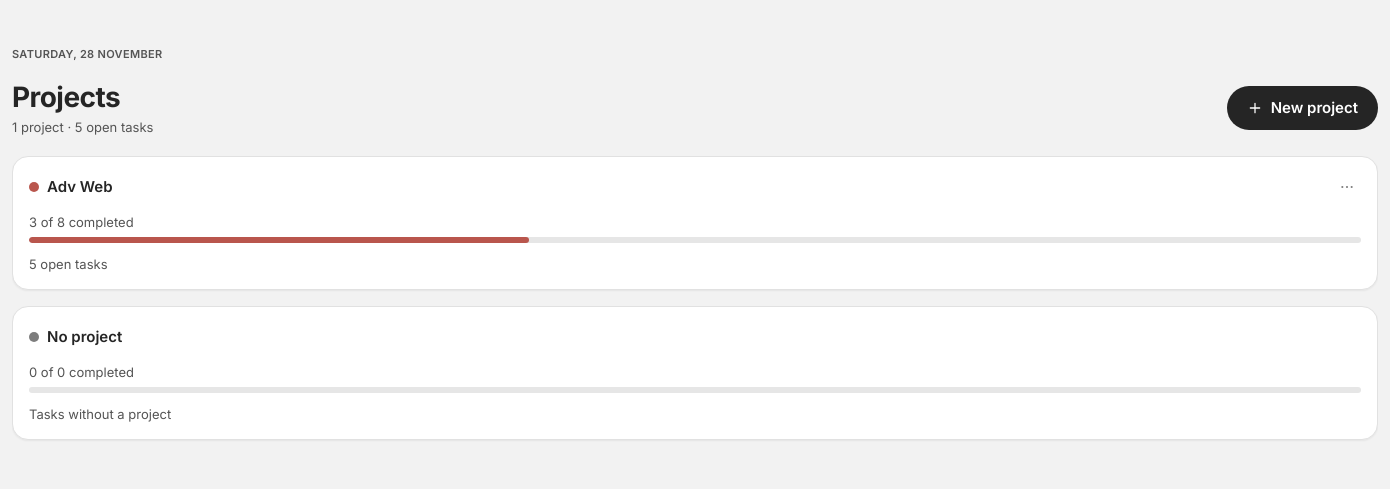
Test case: ProjectsScreen (PJ §2.2) › closes project card menu on click outside and on Escape
The width and height of the screenshot is (1390, 489).
Step 1. Click the button named "Project options" → (1347, 187), box [1333,173,1361,201]
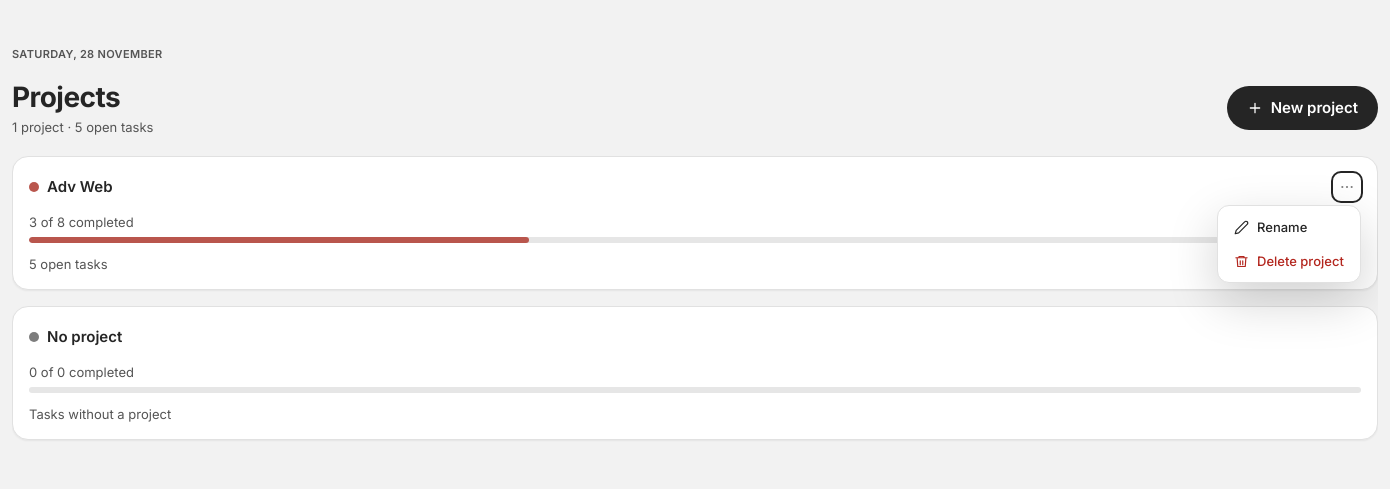
expect the menu is shown: met, box [1217,205,1361,283]
// Click outside on document body closes menu
Step 2. Click the element that starts with "Saturday, 28 November" → (695, 236), box [12,0,1378,472]
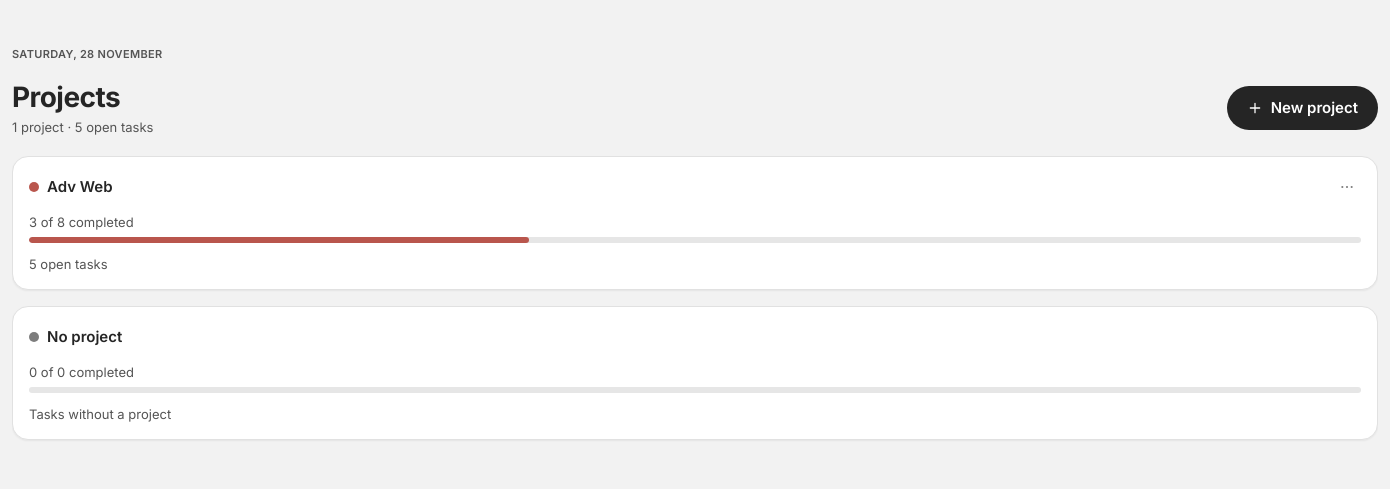
expect the menu is gone: met
// Open again and press Escape to close
Step 3. Click the button named "Project options" → (1347, 187), box [1333,173,1361,201]
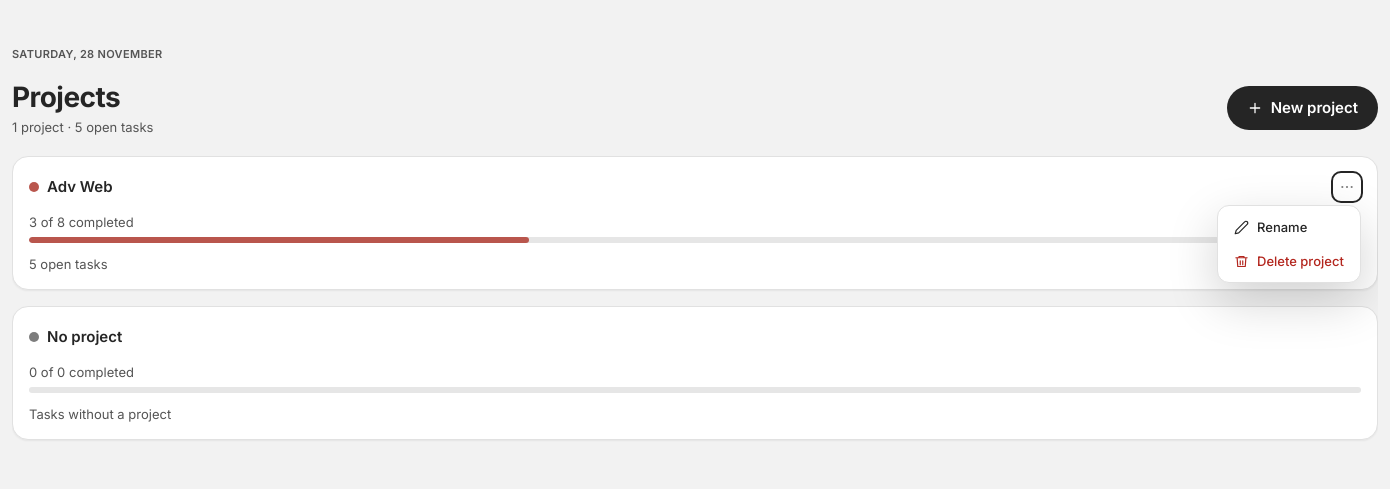
expect the menu is shown: met, box [1217,205,1361,283]
Step 4. Press Escape
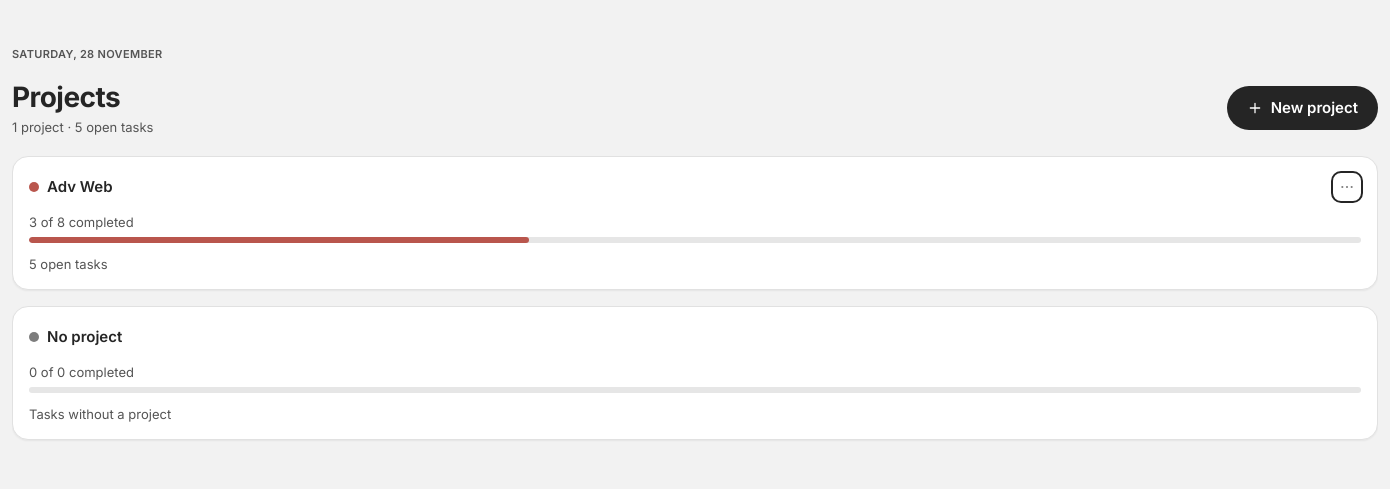
expect the menu is gone: met
